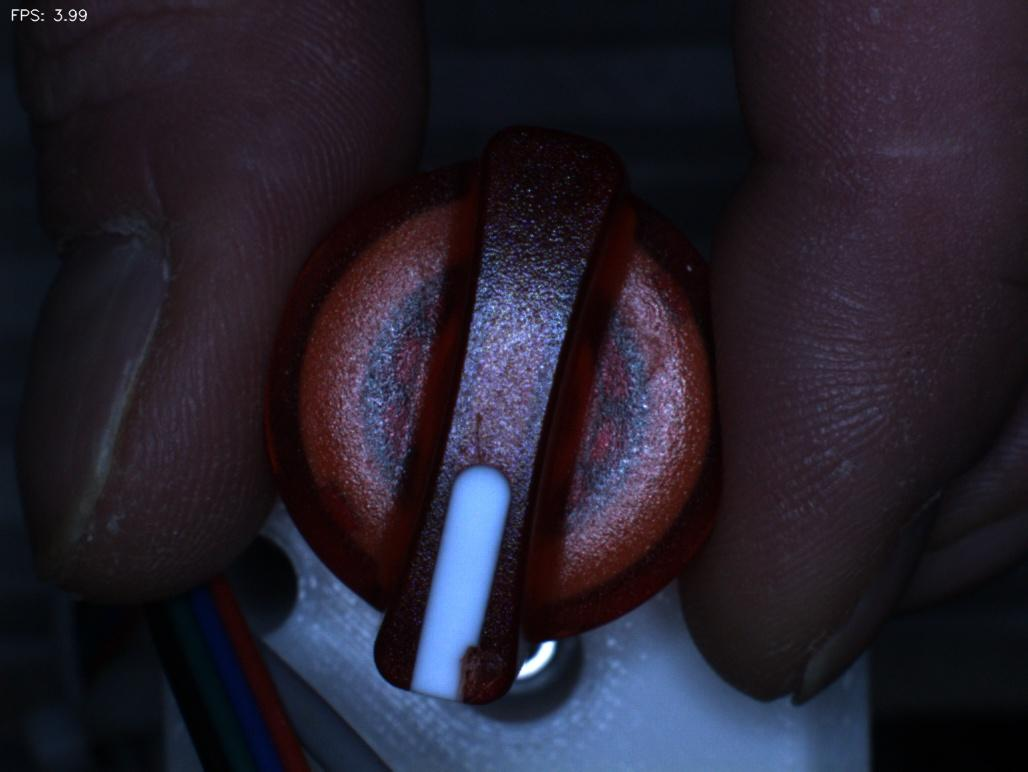Choc: (435, 614, 538, 734)
